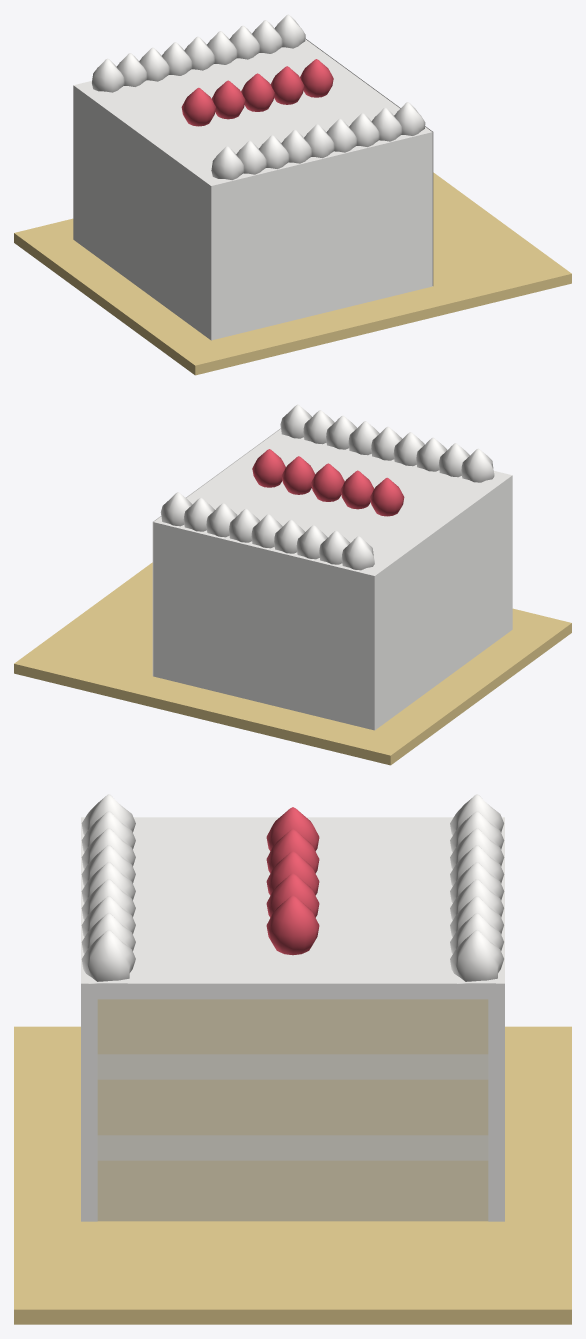
Rendered from bolo-quadrado.glb.
3 renders of one model, top to bottom at view 1: azimuth 30°, elevation 25°; view 2: azimuth 150°, elevation 25°; view 3: azimuth 270°, elevation 25°, orthographic. The views are drawn at different scales.
Visible parts, largest first — view 1: cobertura, base, decoracao; view 2: cobertura, base, decoracao; view 3: base, cobertura, massa, recheio, decoracao.
Boxes of the visible parts, x1,y1,x2,y2 form: cobertura: (73,14,433,340); base: (14,172,571,375); decoracao: (181,59,333,126); cobertura: (152,404,512,730); base: (14,562,571,765); decoracao: (252,449,404,516); base: (14,1026,571,1324); cobertura: (81,794,504,1221); massa: (97,999,488,1221); recheio: (97,1054,488,1160); decoracao: (266,807,319,955).
Bounding box in the file's own units: 0.24 × 0.1209 × 0.2.
